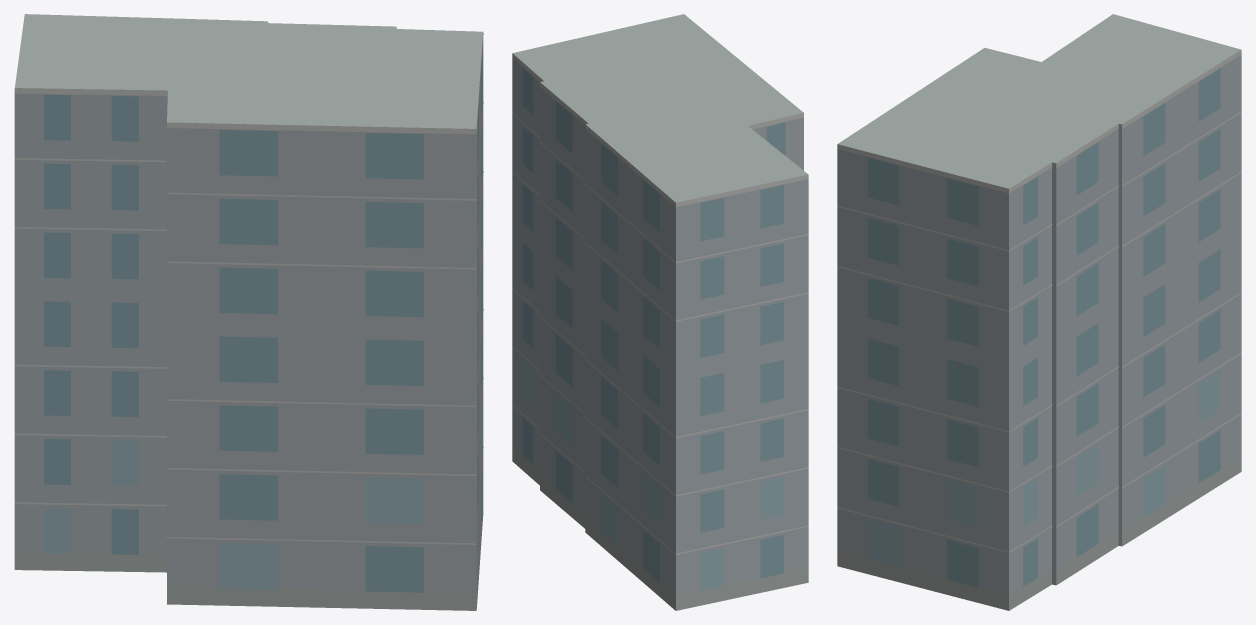
Rendered from survey-upis-32582437.glb.
3 renders of one model, left to right at view 1: azimuth 30°, elevation 25°; view 2: azimuth 150°, elevation 25°; view 3: azimuth 270°, elevation 25°, orthographic. The views are drawn at different scales.
Parts seen in each view (by area): view 1: survey-upis-32582437.tmp; view 2: survey-upis-32582437.tmp; view 3: survey-upis-32582437.tmp.
Boxes of the visible parts, left/top/right/bottom form: survey-upis-32582437.tmp: left=14, top=14, right=483, bottom=610; survey-upis-32582437.tmp: left=512, top=14, right=808, bottom=610; survey-upis-32582437.tmp: left=837, top=14, right=1241, bottom=610.
Bounding box in the file's own units: 19.03 × 21.4 × 18.59.
